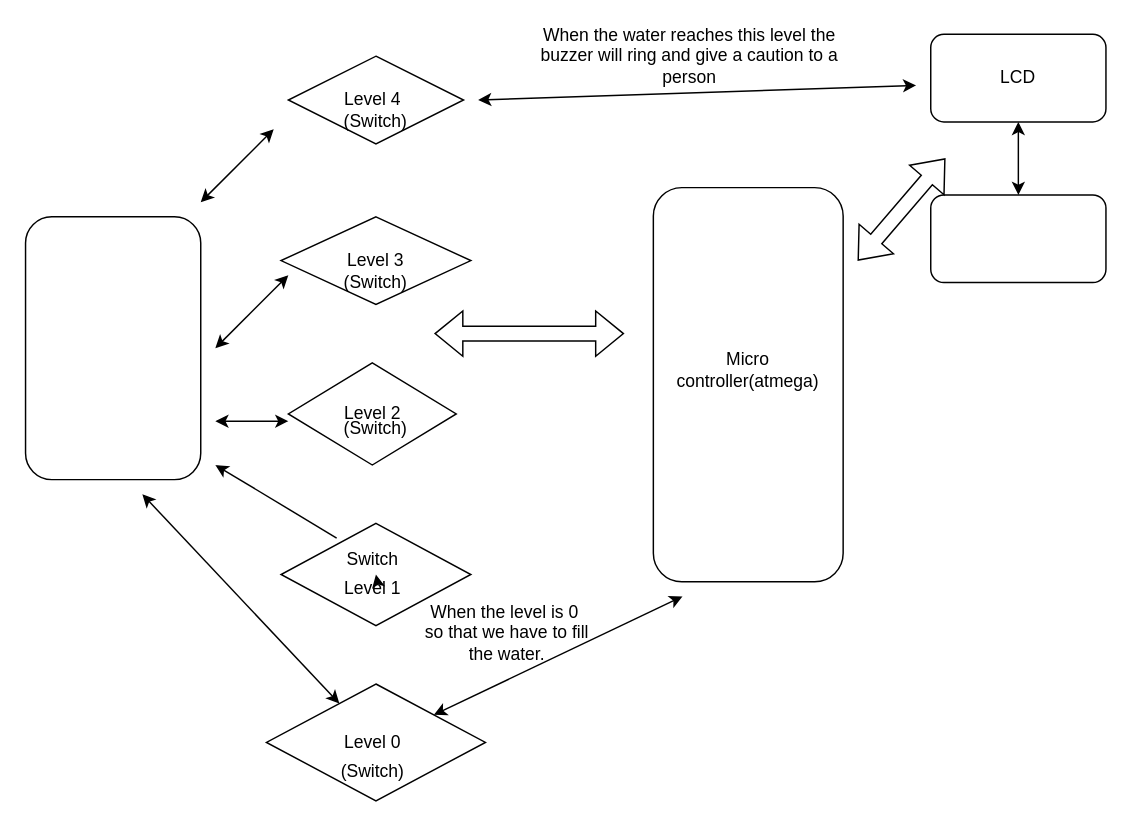
This 1132x826 diagram has some shape labels left out. The centre of each missing label's shape, as x and y in pixels:
"Buzzer" belongs at pixel 1017 238.
"Water tank" belongs at pixel 112 347.
